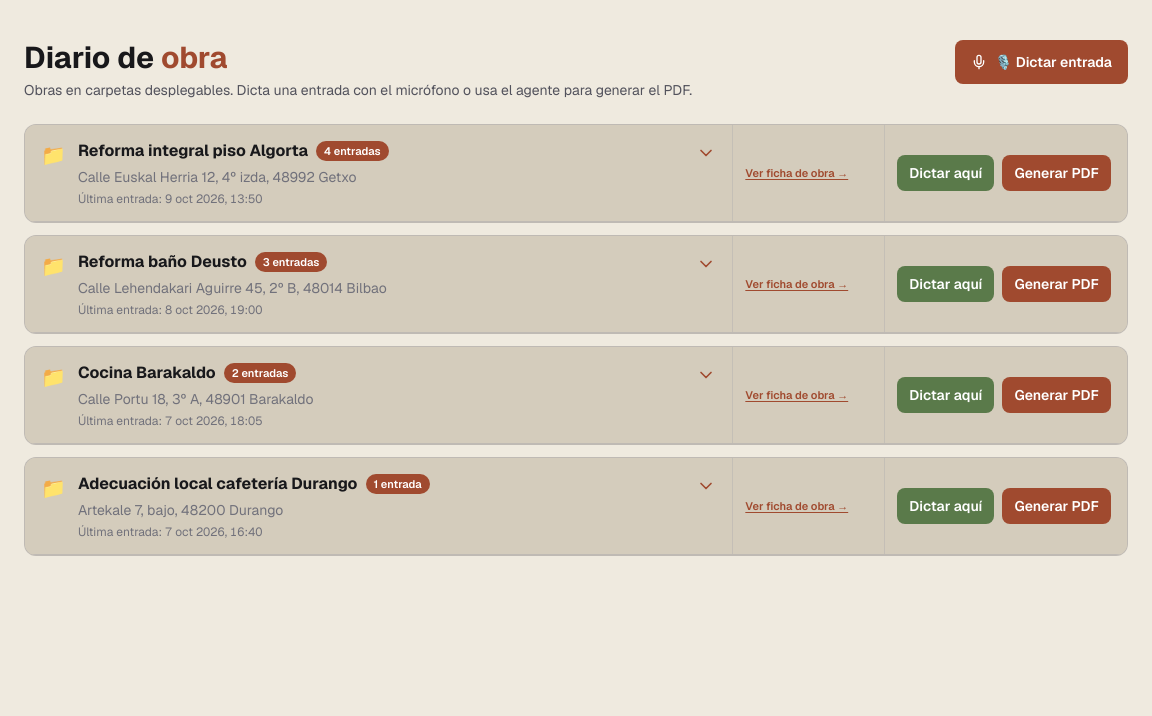
/diario en demo: dictar entrada › abre el modal desde el botón de arriba, guarda en local y abre la carpeta de esa obra
The width and height of the screenshot is (1152, 716).
Click the button "🎙️ Dictar entrada": x=1041, y=62 [955,40,1128,84]
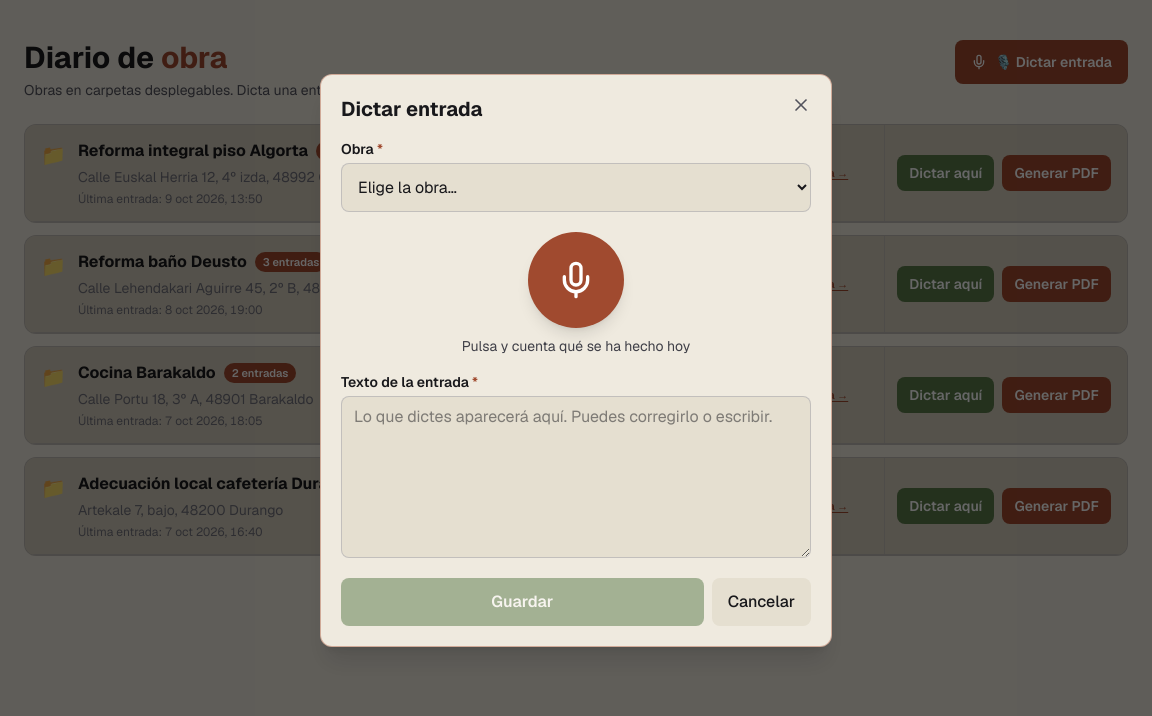
Select "Reforma integral piso Algorta — Calle Euskal Herria 12, 4º izda, 48992 Getxo" in the dropdown labelled "Obra *": x=576, y=187 [341,162,811,212]
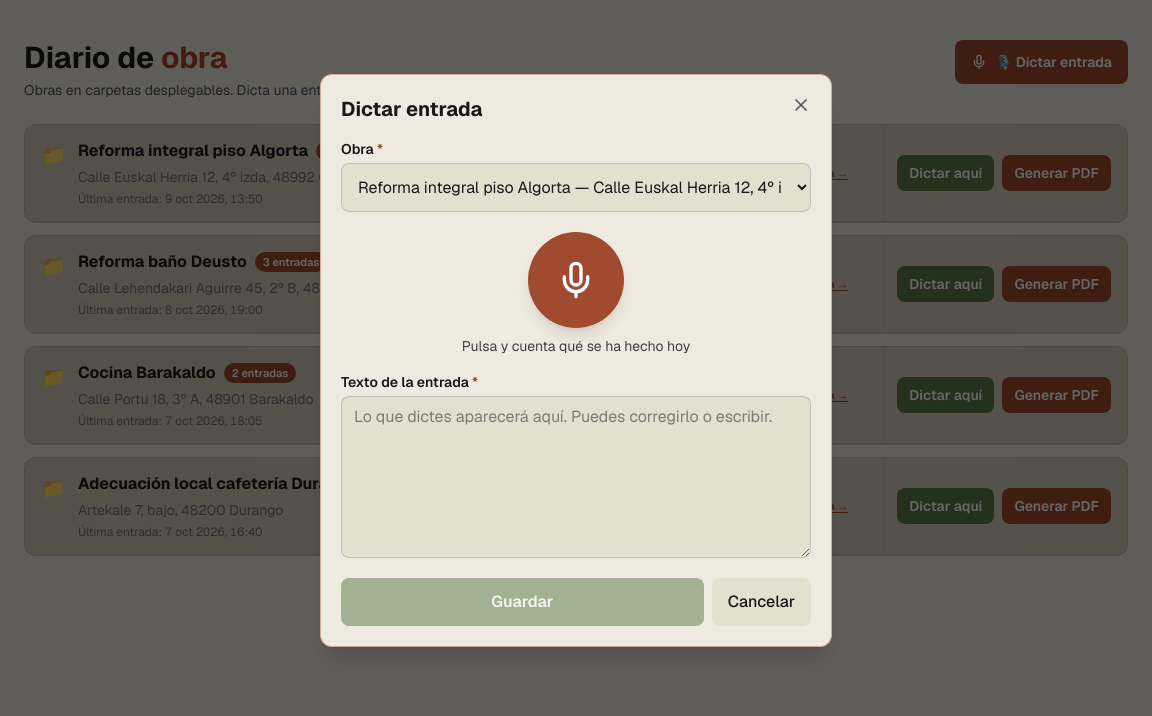
In the text box labelled "Texto de la entrada *": x=576, y=476 [341,396,811,558], type "Entrada dictada de prueba"
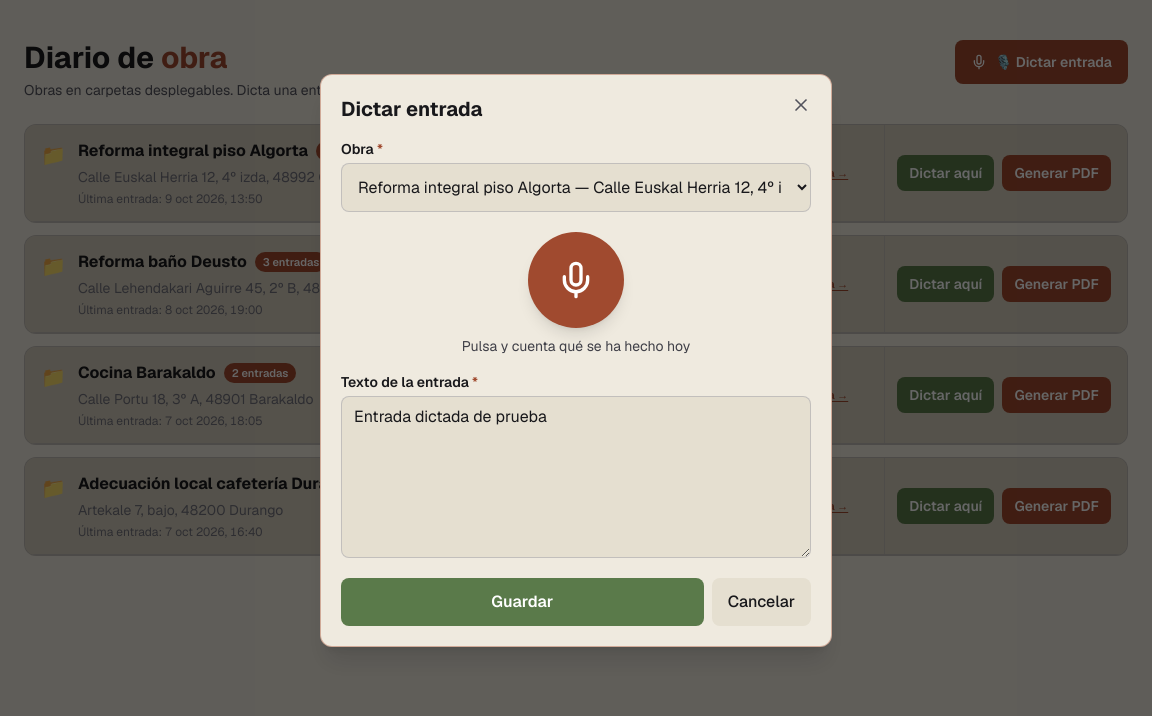
Click the button "Guardar": x=522, y=602 [341,578,704,626]
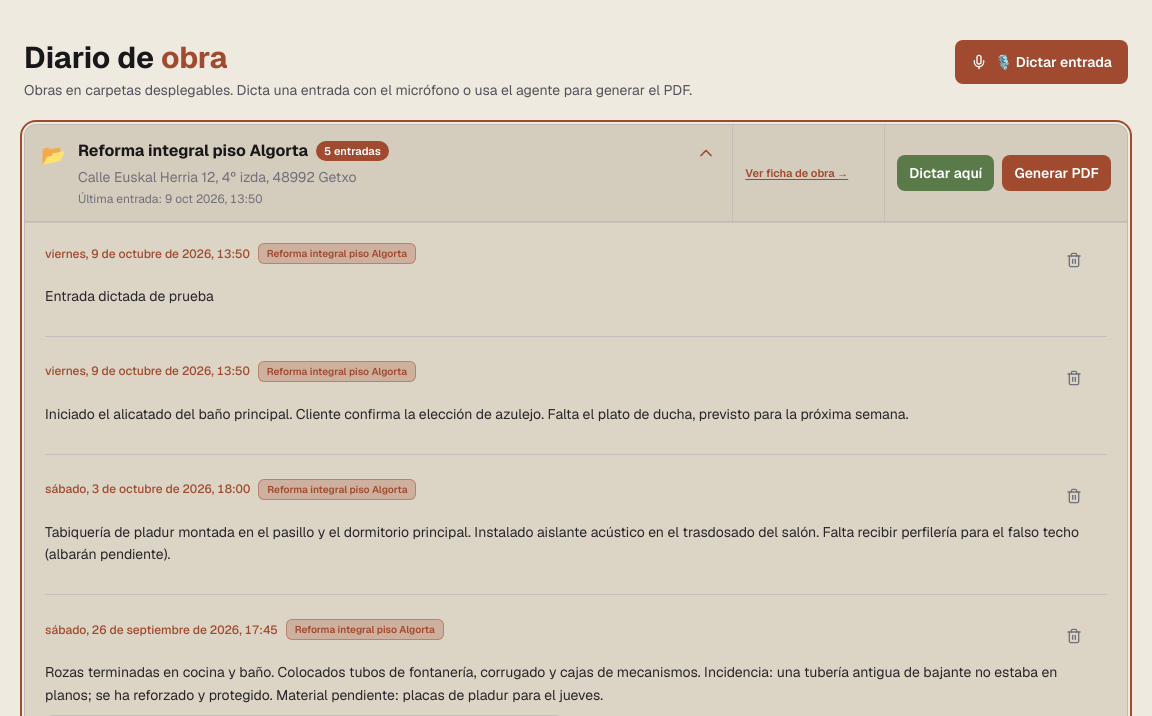
Now the text "Entrada dictada de prueba" is shown, box [45,287,214,305]
